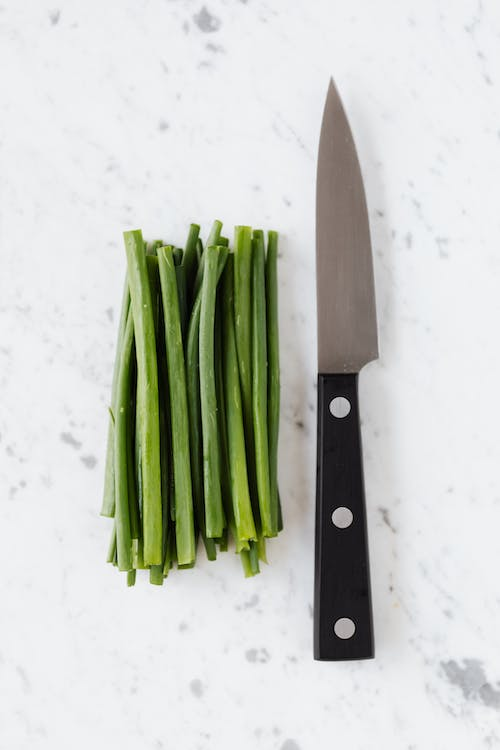knife: (311, 71, 381, 663)
